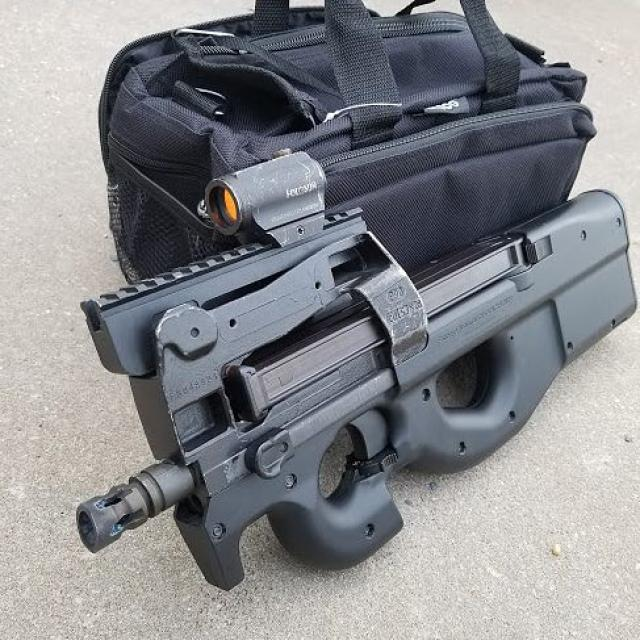Gun: (22, 161, 640, 558)
